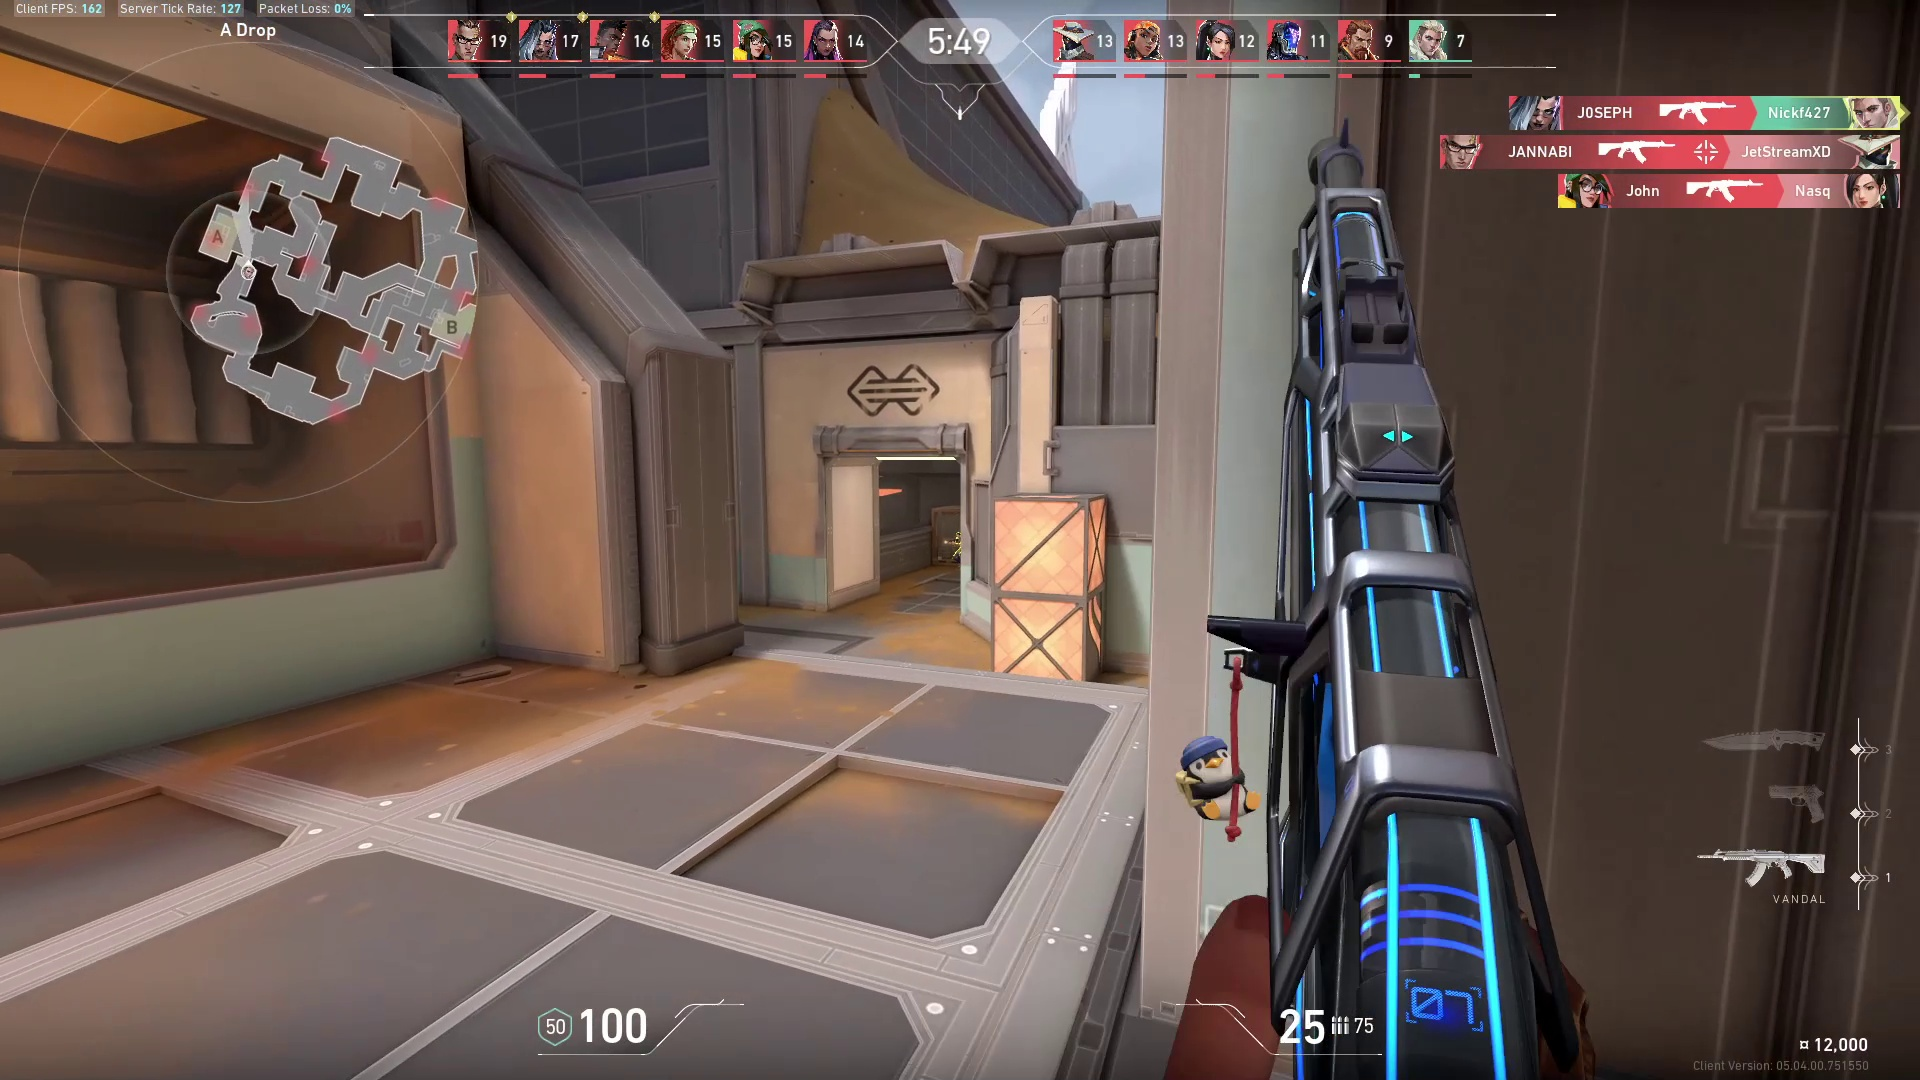enemy_body: (949, 539, 963, 567)
enemy_head: (956, 530, 963, 538)
